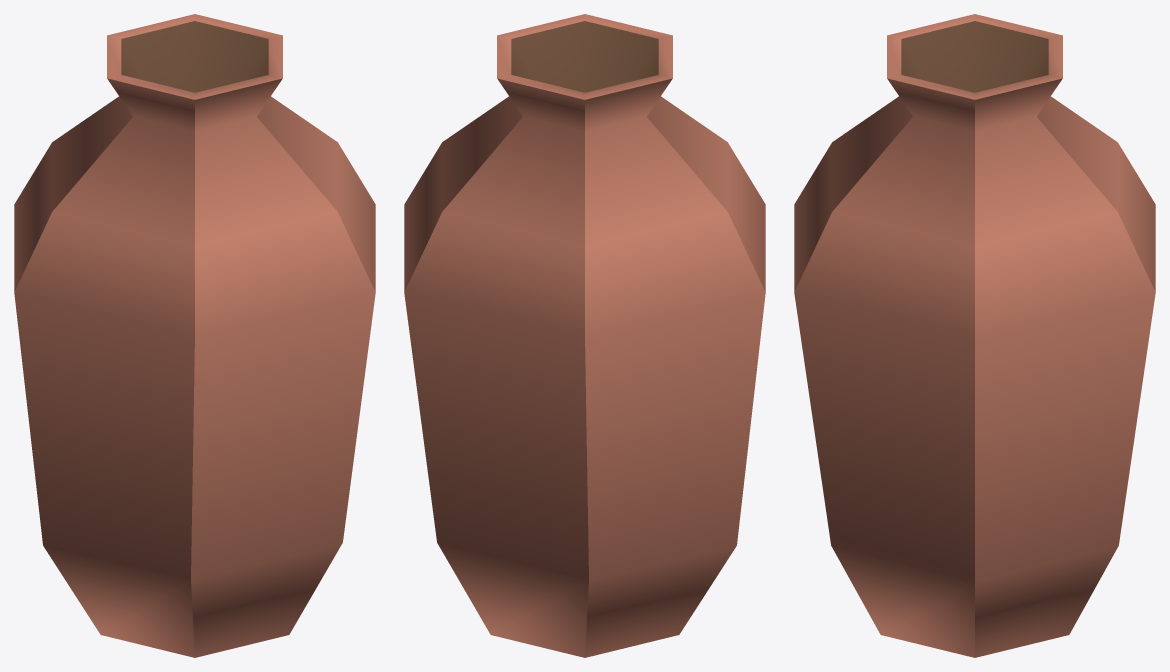
File: jarro_3_pacote.glb
3 renders of one model, left to right at view 1: azimuth 30°, elevation 25°; view 2: azimuth 150°, elevation 25°; view 3: azimuth 270°, elevation 25°, orthographic.
Visible parts, largest first — view 1: jarro_3_pacote; view 2: jarro_3_pacote; view 3: jarro_3_pacote.
Part boxes in pixels (x1,y1,x2,y2): jarro_3_pacote: (14,14,375,657); jarro_3_pacote: (404,14,765,657); jarro_3_pacote: (794,14,1155,657).
Bounding box in the file's own units: 0.3887 × 0.5704 × 0.3367.
1 material, 1 textured.
